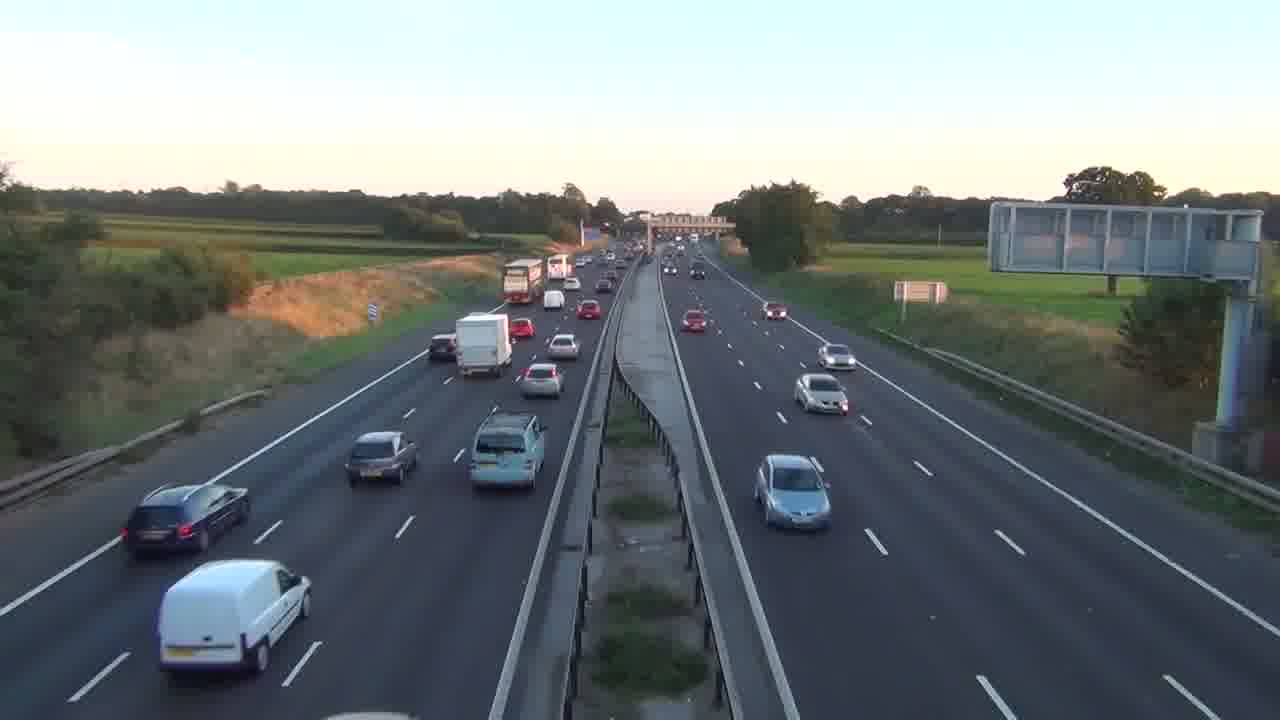car: (122, 481, 250, 559), (753, 453, 833, 531), (344, 430, 420, 484), (793, 371, 850, 415), (515, 363, 564, 399), (816, 342, 857, 370), (545, 332, 580, 361), (428, 334, 456, 361), (680, 307, 706, 334), (576, 299, 601, 320)
truck: (157, 557, 313, 675), (453, 311, 513, 377)
